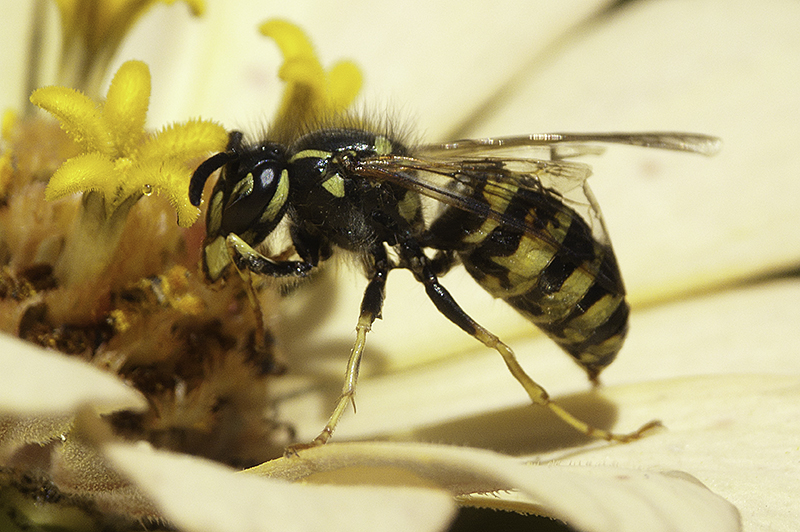chax: (170, 105, 748, 480)
